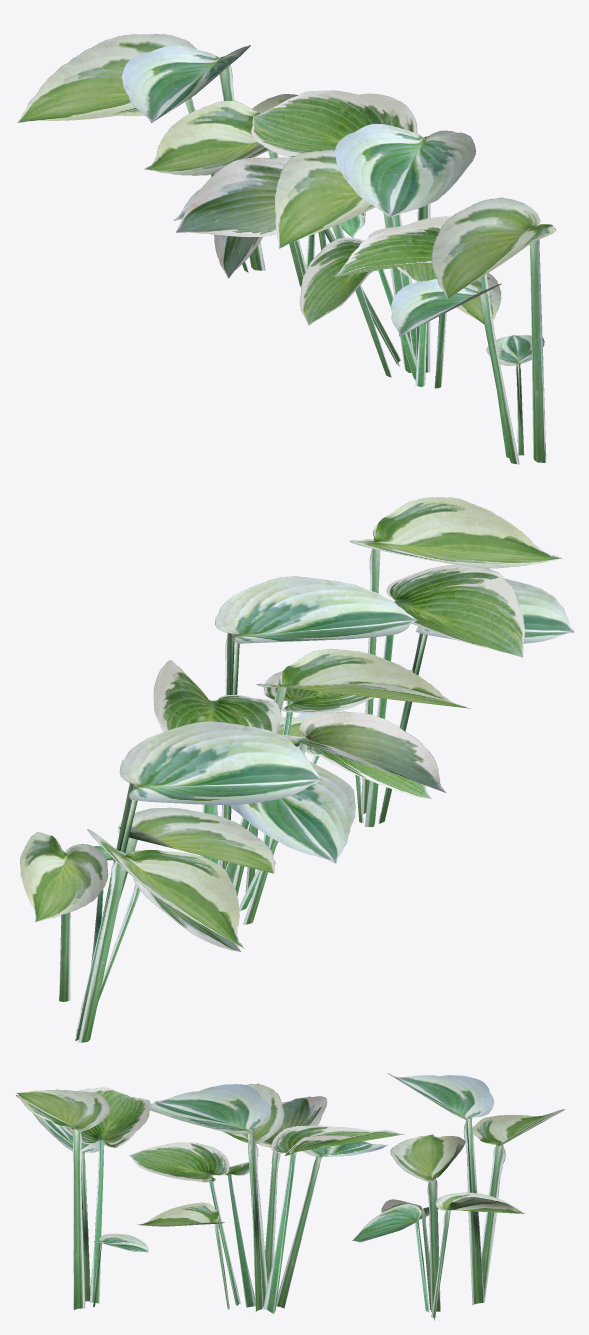
File: plant_small_wg_00_line_12.fbx
The picture shows the model from 3 angles, top to bottom: view 1: azimuth 30°, elevation 25°; view 2: azimuth 150°, elevation 25°; view 3: azimuth 270°, elevation 25°; orthographic projection. The views are drawn at different scales.
Visible parts, largest first — view 1: plant_small_wg_00_line_12; view 2: plant_small_wg_00_line_12; view 3: plant_small_wg_00_line_12.
Part boxes in pixels (x1=…): plant_small_wg_00_line_12: x1=17, y1=34, x2=556, y2=464; plant_small_wg_00_line_12: x1=20, y1=497, x2=574, y2=1042; plant_small_wg_00_line_12: x1=16, y1=1073, x2=564, y2=1320.
Size of the model in its own units: 44.64 by 44.39 by 115.
1 material, 1 textured.
